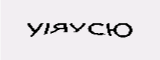Б: (98, 12, 116, 37)
С: (50, 14, 68, 39)
Ф: (33, 17, 51, 46)
Ч: (69, 8, 91, 39)
Я: (115, 17, 131, 39)
